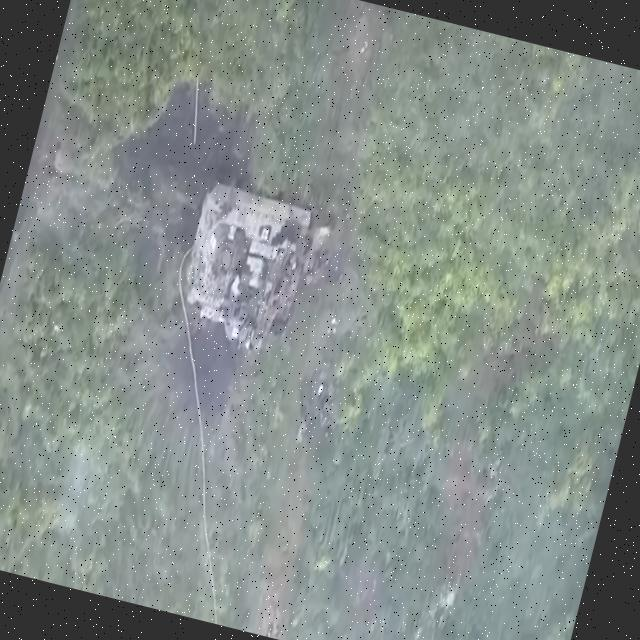AIFV: (167, 169, 337, 368)
